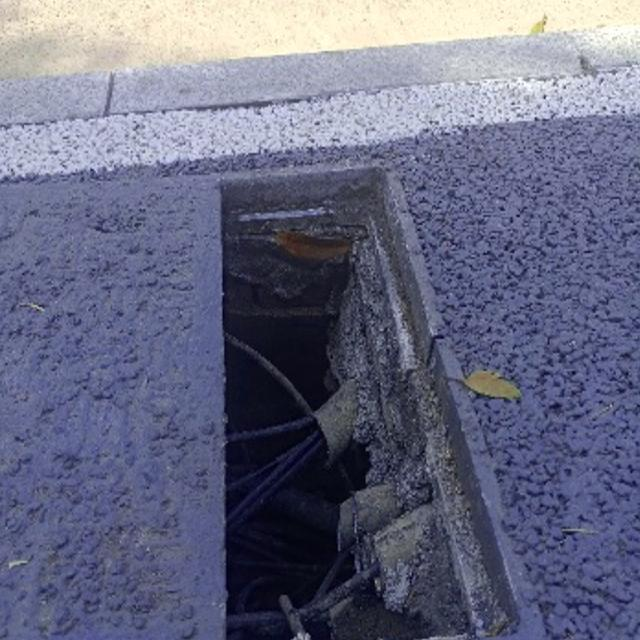uncovered: (0, 157, 540, 640)
